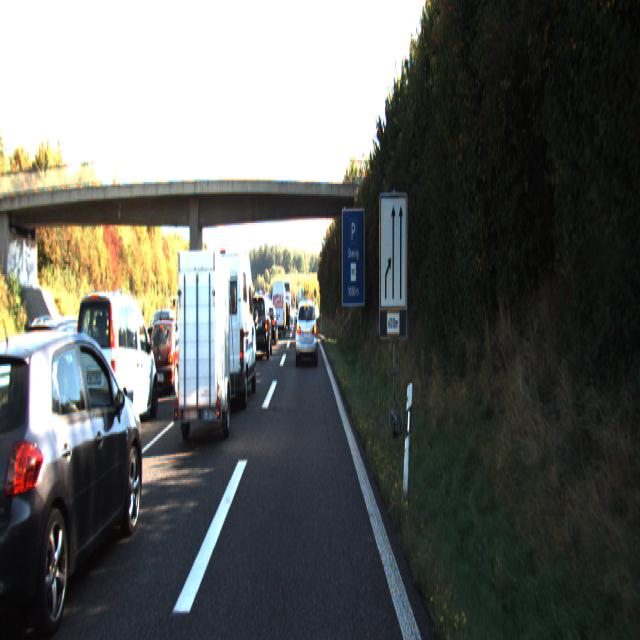Car: (0, 322, 150, 638), (169, 245, 236, 448), (74, 287, 159, 442), (18, 314, 108, 430), (201, 244, 258, 411), (148, 316, 192, 395), (246, 292, 272, 358), (295, 296, 318, 364), (271, 277, 286, 332), (262, 308, 278, 347)
